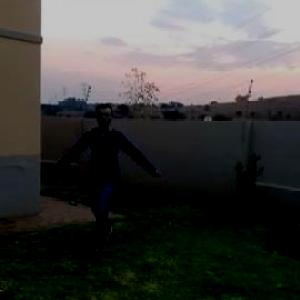land: (57, 99, 166, 237)
